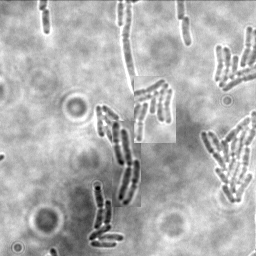Dividing: (123, 1, 142, 95), (41, 8, 52, 35)
Microcolony: (200, 109, 255, 205), (212, 25, 255, 94), (134, 76, 176, 143), (112, 121, 141, 207), (89, 184, 126, 248), (96, 103, 132, 150), (182, 16, 193, 48)
